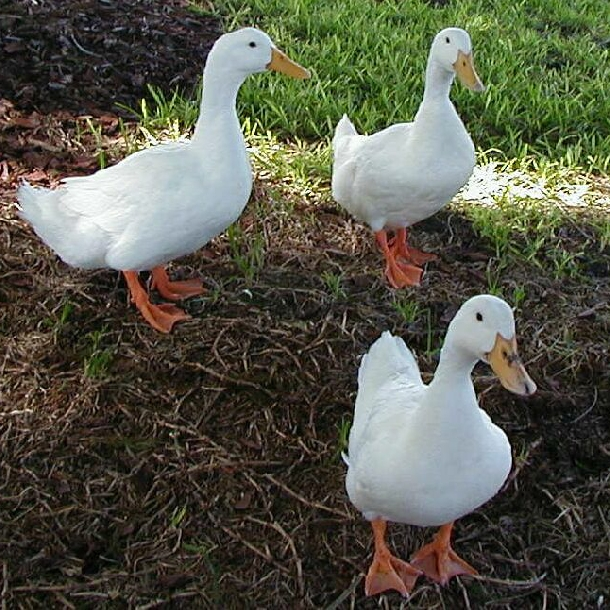Vịt/Duck: (63, 14, 325, 345), (328, 285, 553, 607), (310, 5, 512, 302)
